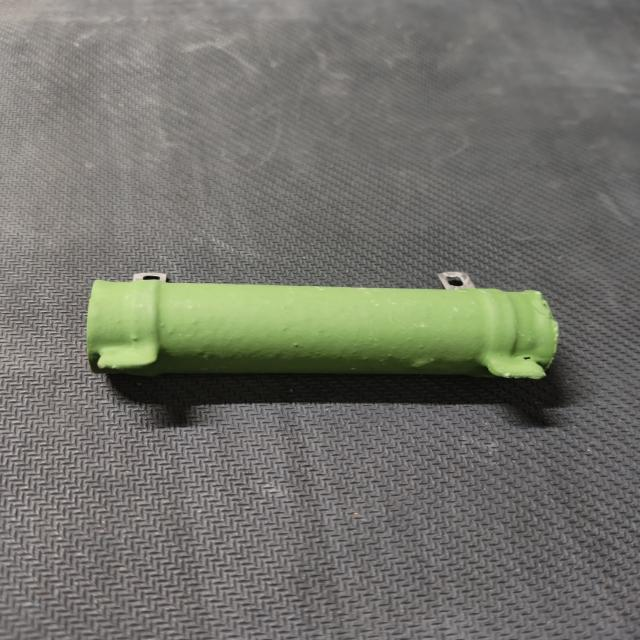resistor: (73, 252, 587, 437)
